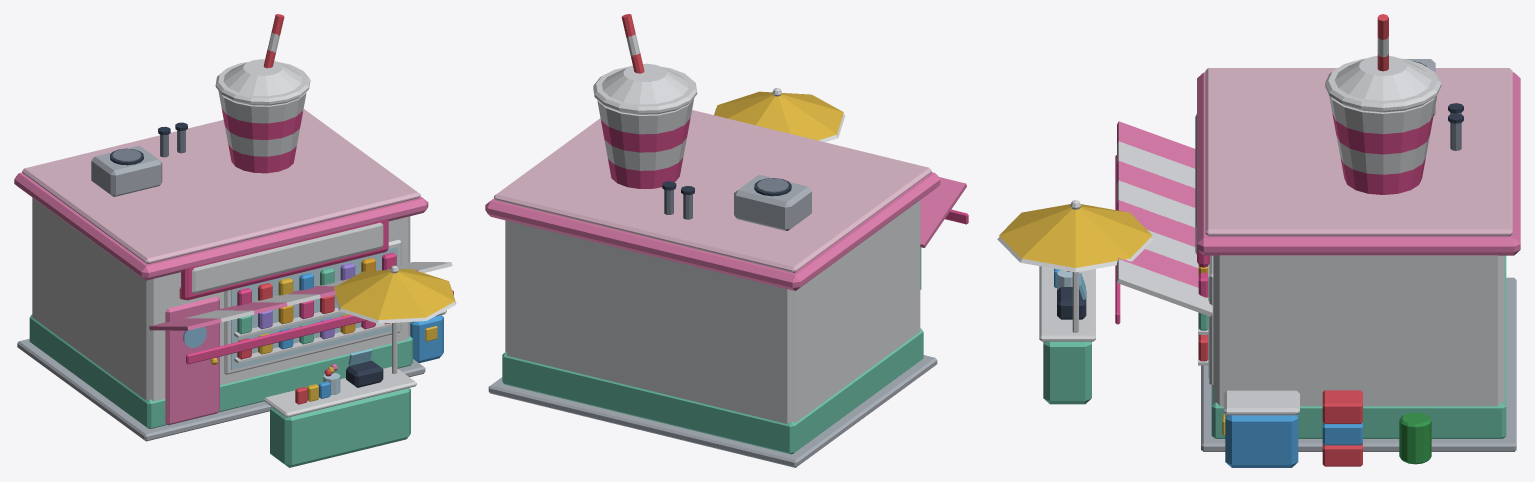
Rendered from mini-mart.glb.
3 renders of one model, left to right at view 1: azimuth 30°, elevation 25°; view 2: azimuth 150°, elevation 25°; view 3: azimuth 270°, elevation 25°, orthographic. The views are drawn at different scales.
Parts seen in each view (by area): view 1: mini_mart; view 2: mini_mart; view 3: mini_mart.
Boxes of the visible parts, box(x1,y1,x2,y2) form: mini_mart: box(14, 14, 456, 467); mini_mart: box(485, 14, 968, 467); mini_mart: box(997, 14, 1520, 467).
Bounding box in the file's own units: 5.5 × 5.37 × 6.47.
